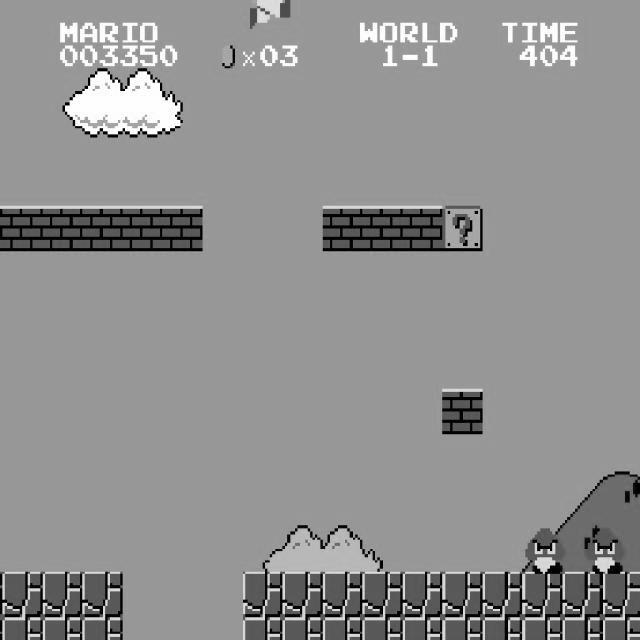1- brick_block: (442, 388, 483, 434), (2, 206, 43, 251), (42, 206, 83, 251), (82, 206, 123, 251), (122, 206, 163, 251), (162, 206, 203, 251), (322, 206, 363, 251), (362, 206, 403, 251), (402, 206, 443, 251), (0, 205, 2, 251)
13- mystery_block: (442, 206, 483, 251)
17- undestructible_block: (2, 572, 43, 618), (42, 572, 83, 618), (82, 572, 123, 618), (242, 572, 283, 618), (282, 572, 323, 618), (322, 572, 363, 618), (362, 572, 403, 618), (402, 572, 443, 618), (442, 572, 483, 618), (482, 572, 523, 618), (522, 572, 563, 618), (562, 572, 603, 618), (603, 572, 640, 618), (2, 617, 43, 640), (42, 617, 83, 640), (82, 617, 123, 640), (242, 617, 283, 640), (282, 617, 323, 640), (322, 617, 363, 640), (362, 617, 403, 640), (402, 617, 443, 640), (442, 617, 483, 640), (482, 617, 523, 640), (522, 617, 563, 640), (562, 617, 603, 640), (603, 617, 640, 640), (0, 571, 2, 617), (0, 617, 2, 639)
8- goomba: (522, 526, 566, 574), (582, 526, 625, 574)
